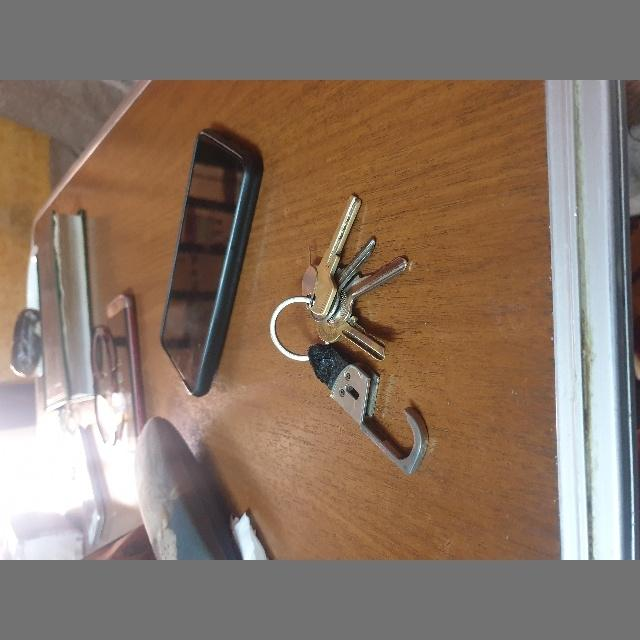Keys: (112, 273, 492, 405)
